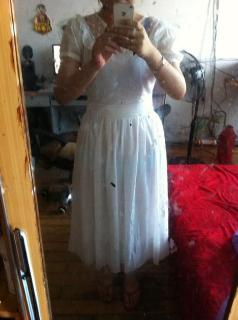short sleeve dress: (59, 11, 184, 274)
